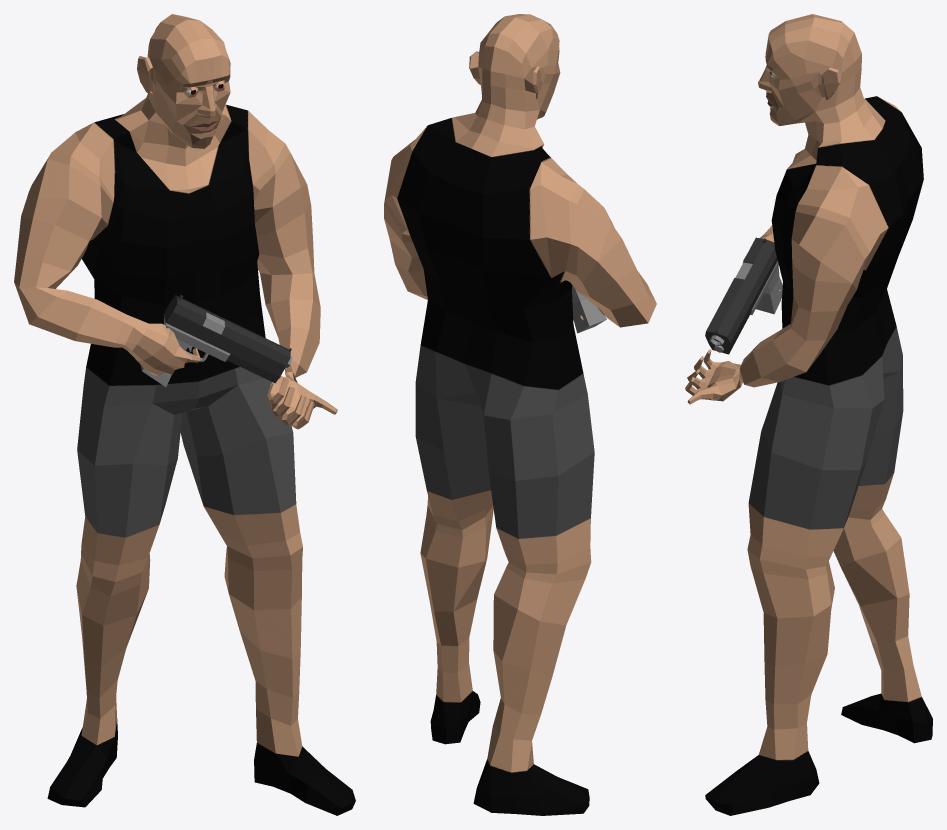
File: PlayerIdle(19).obj
The picture shows the model from 3 angles, left to right: view 1: azimuth 30°, elevation 25°; view 2: azimuth 150°, elevation 25°; view 3: azimuth 270°, elevation 25°; orthographic projection. The views are drawn at different scales.
Visible parts, largest first — view 1: Plane002, Box003; view 2: Plane002, Box003; view 3: Plane002, Box003.
Part boxes in pixels (x1=…): Plane002: x1=14, y1=14, x2=355, y2=815; Box003: x1=140, y1=294, x2=292, y2=386; Plane002: x1=384, y1=14, x2=656, y2=815; Box003: x1=572, y1=285, x2=606, y2=333; Plane002: x1=685, y1=14, x2=932, y2=815; Box003: x1=705, y1=237, x2=782, y2=354.
Bounding box in the file's own units: 675 × 1809 × 549.
